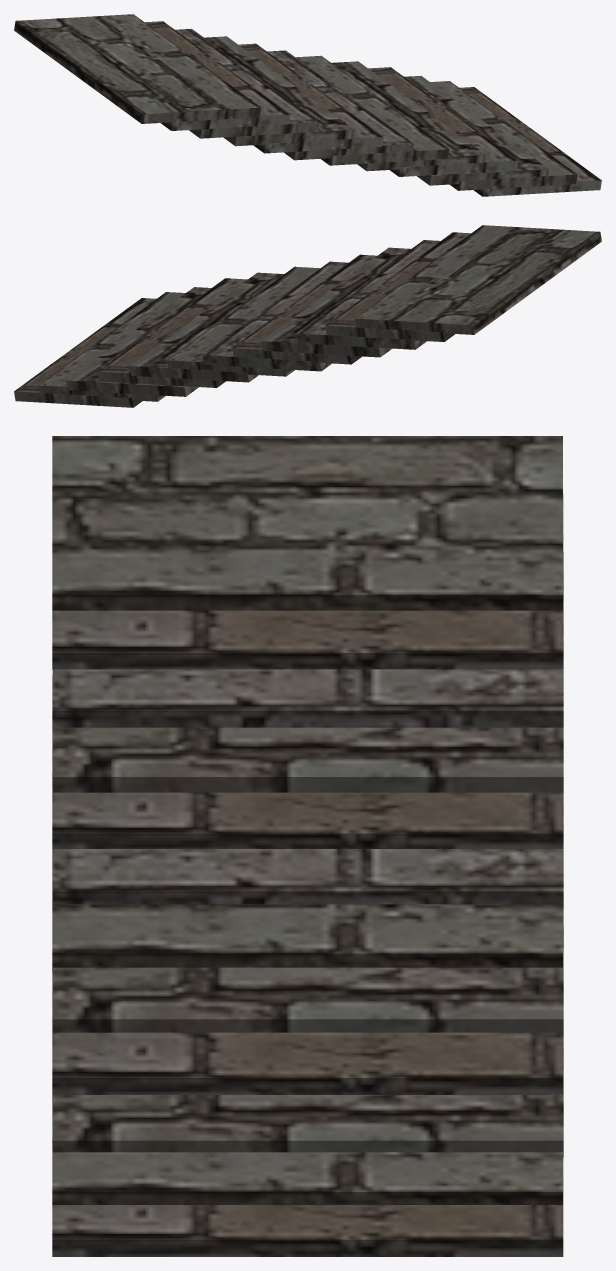
Rendered from RoofTopStone2.fbx.
3 views of the same model, one above another, from view 1: azimuth 30°, elevation 25°; view 2: azimuth 150°, elevation 25°; view 3: azimuth 270°, elevation 25° (orthographic). The views are drawn at different scales.
Parts seen in each view (by area): view 1: Cube.001; view 2: Cube.001; view 3: Cube.001.
Boxes of the visible parts, box(x1,y1,x2,y2) form: Cube.001: box(14, 14, 601, 196); Cube.001: box(14, 225, 601, 407); Cube.001: box(52, 436, 563, 1256).
Bounding box in the file's own units: 91.51 × 35.59 × 44.04.
Materials: 1 (1 with a texture image).
